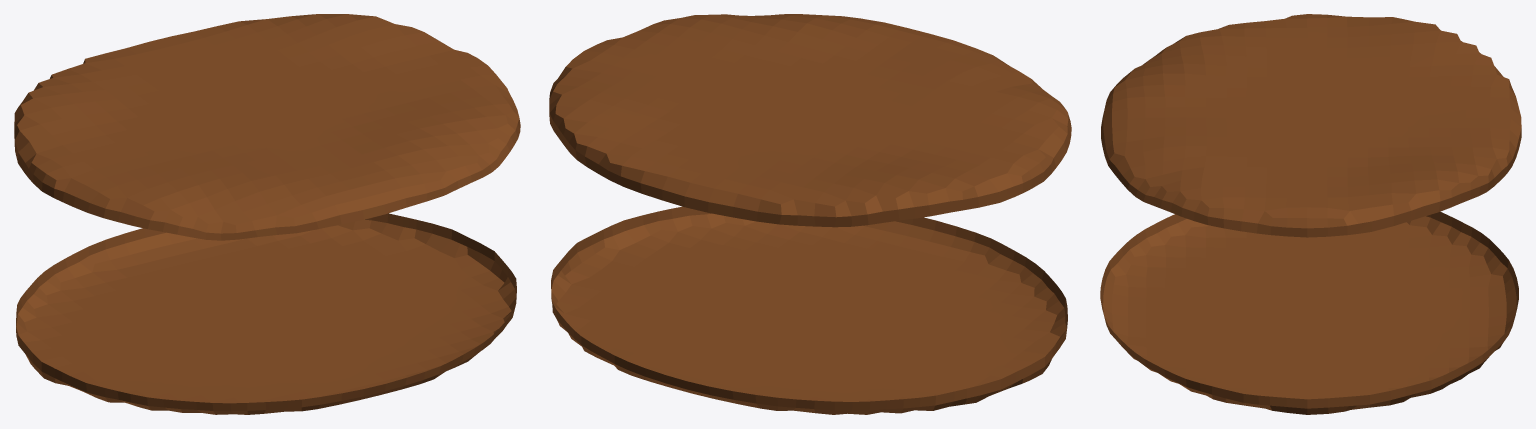
The model's file is Ceinture extérieur 2 merde.fbx.
3 views of the same model, side by side, from view 1: azimuth 30°, elevation 25°; view 2: azimuth 150°, elevation 25°; view 3: azimuth 270°, elevation 25° (orthographic). The views are drawn at different scales.
Parts seen in each view (by area): view 1: Ceinture ext Rozenn; view 2: Ceinture ext Rozenn; view 3: Ceinture ext Rozenn.
Boxes of the visible parts, bbox=[...] form: Ceinture ext Rozenn: bbox=[14, 14, 520, 414]; Ceinture ext Rozenn: bbox=[549, 14, 1071, 414]; Ceinture ext Rozenn: bbox=[1100, 14, 1521, 414].
Bounding box in the file's own units: 210 × 96.37 × 178.
